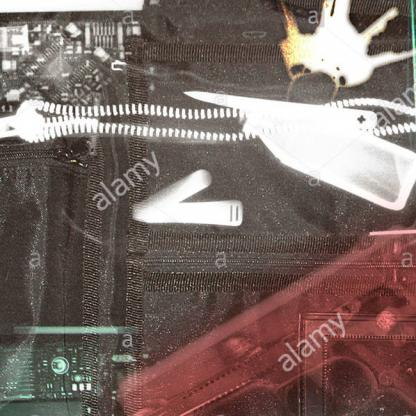gun: (126, 226, 415, 415)
